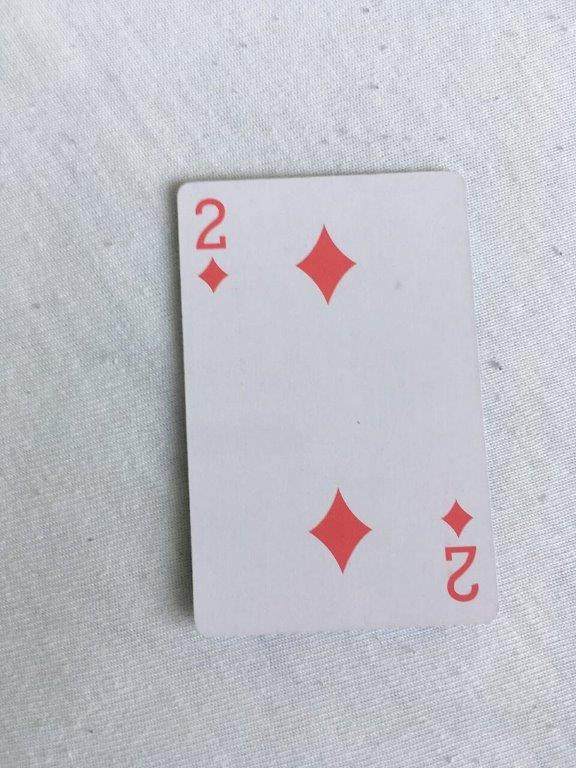2D: (172, 168, 501, 641)
